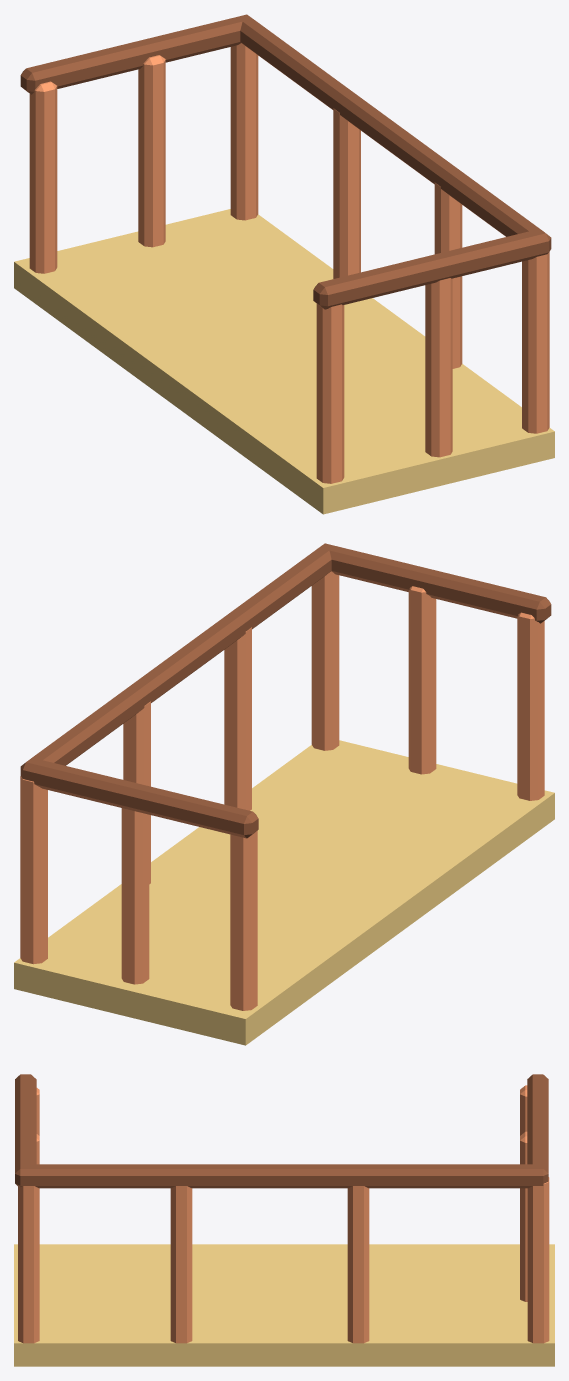
File: Balc2.fbx
3 views of the same model, one above another, from view 1: azimuth 30°, elevation 25°; view 2: azimuth 150°, elevation 25°; view 3: azimuth 270°, elevation 25° (orthographic). The views are drawn at different scales.
Parts seen in each view (by area): view 1: pCube7, pCube10, pCube8, pCube9, pCube37, pCube38, pCube36, pCube34, pCube33, pCube35, pCube14, pCube13; view 2: pCube7, pCube10, pCube9, pCube8, pCube35, pCube36, pCube34, pCube33, pCube38, pCube37, pCube13, pCube14; view 3: pCube7, pCube10, pCube34, pCube14, pCube13, pCube33, pCube9, pCube8, pCube38, pCube37.
Part boxes in pixels (left/top/right/bottom): pCube7: left=14, top=209, right=554, bottom=514; pCube10: left=240, top=19, right=543, bottom=236; pCube8: left=313, top=230, right=551, bottom=309; pCube9: left=20, top=14, right=252, bottom=94; pCube37: left=29, top=81, right=57, bottom=273; pCube38: left=138, top=55, right=165, bottom=247; pCube36: left=316, top=304, right=344, bottom=483; pCube34: left=230, top=43, right=258, bottom=220; pCube33: left=522, top=252, right=549, bottom=433; pCube35: left=425, top=278, right=452, bottom=457; pCube14: left=333, top=108, right=360, bottom=278; pCube13: left=434, top=182, right=462, bottom=368; pCube7: left=14, top=740, right=554, bottom=1045; pCube10: left=32, top=545, right=331, bottom=765; pCube9: left=20, top=757, right=258, bottom=838; pCube8: left=319, top=543, right=551, bottom=623; pCube35: left=408, top=586, right=436, bottom=774; pCube36: left=517, top=612, right=544, bottom=800; pCube34: left=20, top=776, right=47, bottom=964; pCube33: left=311, top=571, right=339, bottom=750; pCube38: left=121, top=808, right=149, bottom=984; pCube37: left=230, top=831, right=257, bottom=1010; pCube13: left=224, top=627, right=251, bottom=810; pCube14: left=123, top=701, right=150, bottom=884; pCube7: left=14, top=1244, right=554, bottom=1366; pCube10: left=23, top=1164, right=532, bottom=1188; pCube34: left=527, top=1177, right=549, bottom=1343; pCube14: left=347, top=1186, right=369, bottom=1343; pCube13: left=170, top=1186, right=192, bottom=1343; pCube33: left=18, top=1186, right=39, bottom=1343; pCube9: left=527, top=1074, right=548, bottom=1185; pCube8: left=15, top=1074, right=36, bottom=1187; pCube38: left=520, top=1131, right=527, bottom=1301; pCube37: left=520, top=1085, right=527, bottom=1135.
Size of the model in its own units: 10.82 by 9.96 by 25.
